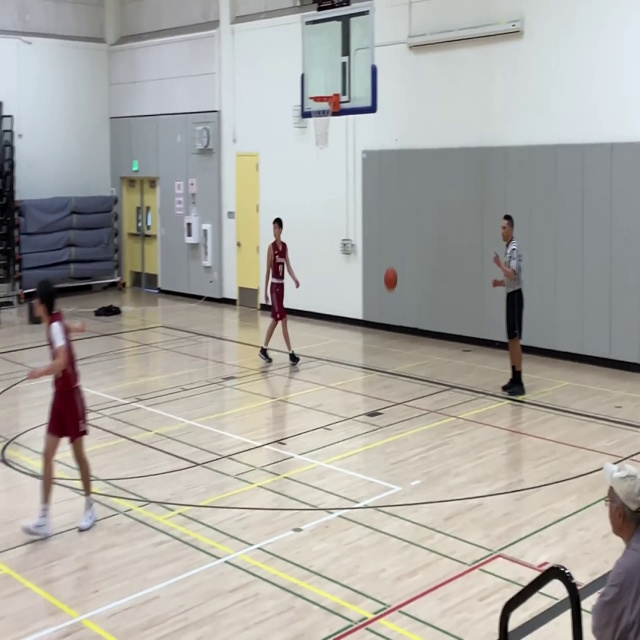Basketball: (384, 267, 397, 289)
